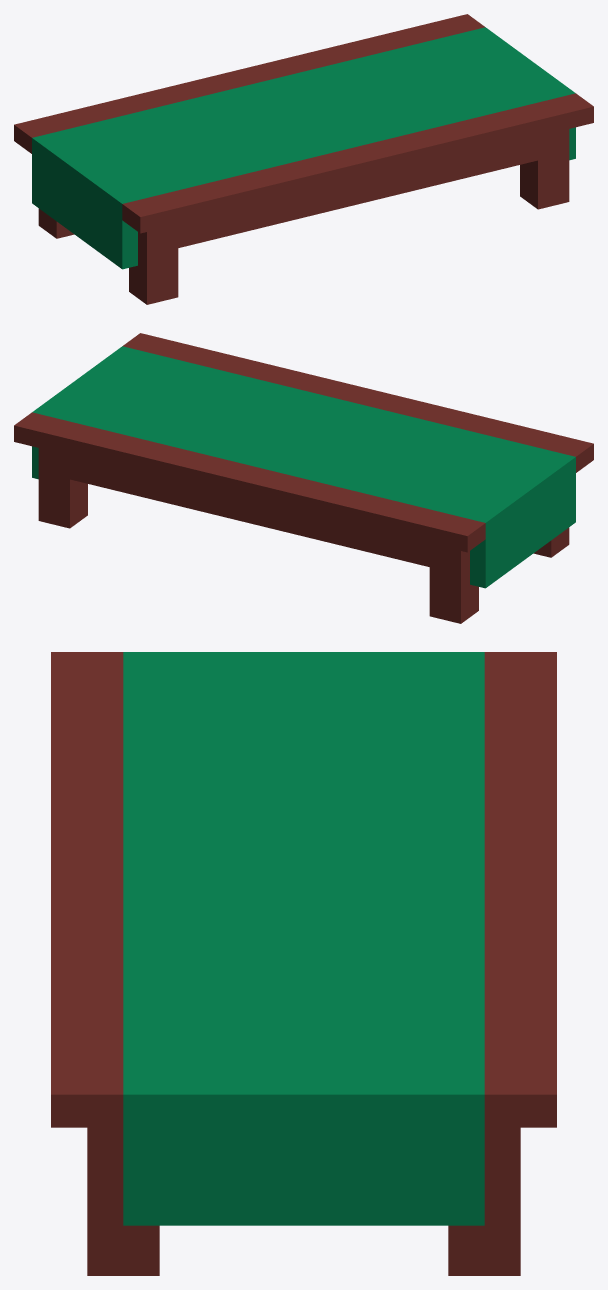
The model's file is large_table_b_green.obj.
3 renders of one model, top to bottom at view 1: azimuth 30°, elevation 25°; view 2: azimuth 150°, elevation 25°; view 3: azimuth 270°, elevation 25°, orthographic. The views are drawn at different scales.
Bounding box in the file's own units: 2.9 × 0.6 × 1.4.
1 material, 1 textured.
